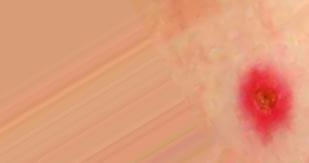Spider: (222, 54, 305, 141)
